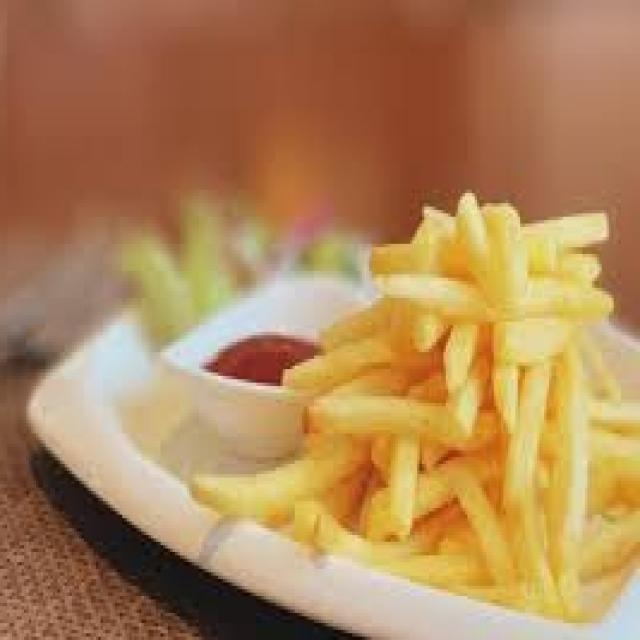kentang goreng: (192, 193, 640, 623)
